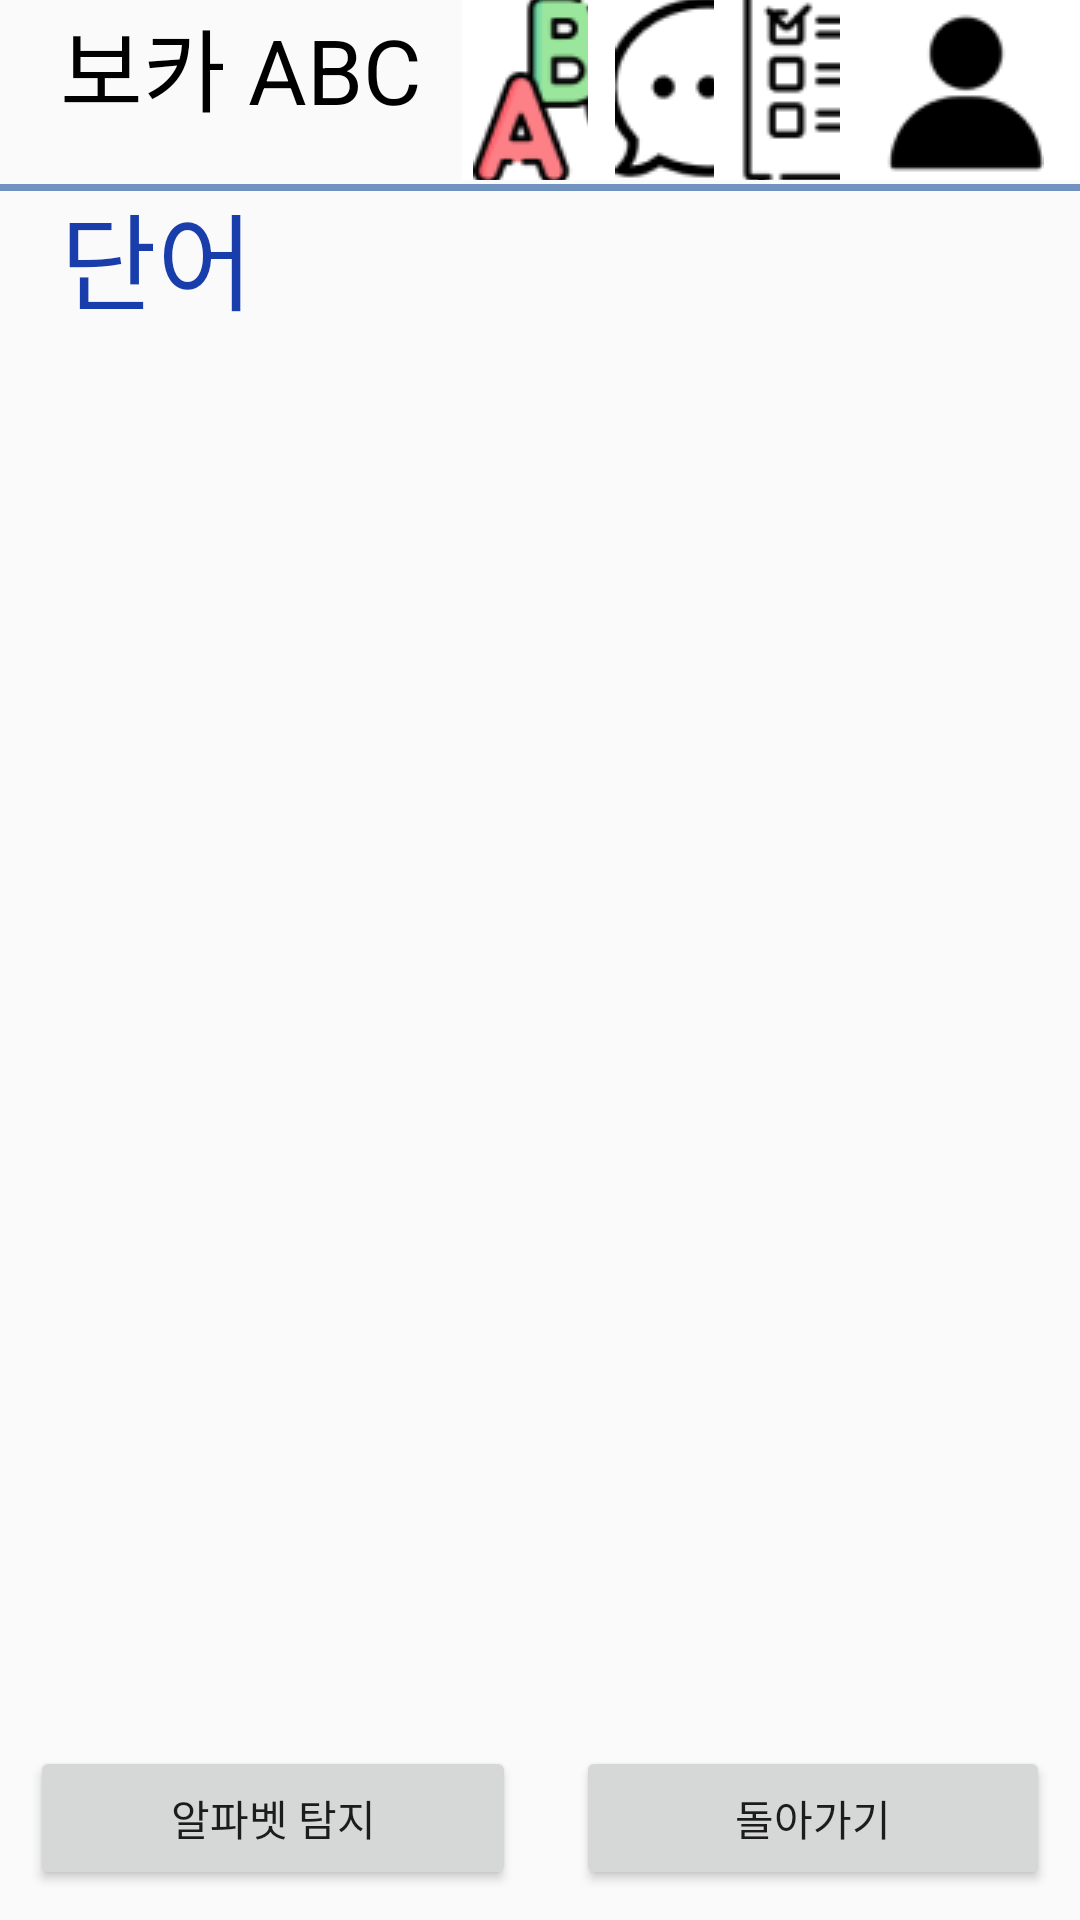

Where icons sit on this 1080 × 1920 app screen, as bbox=[x1, y1, x2, y2]:
profile: bbox=[888, 15, 1044, 171]
